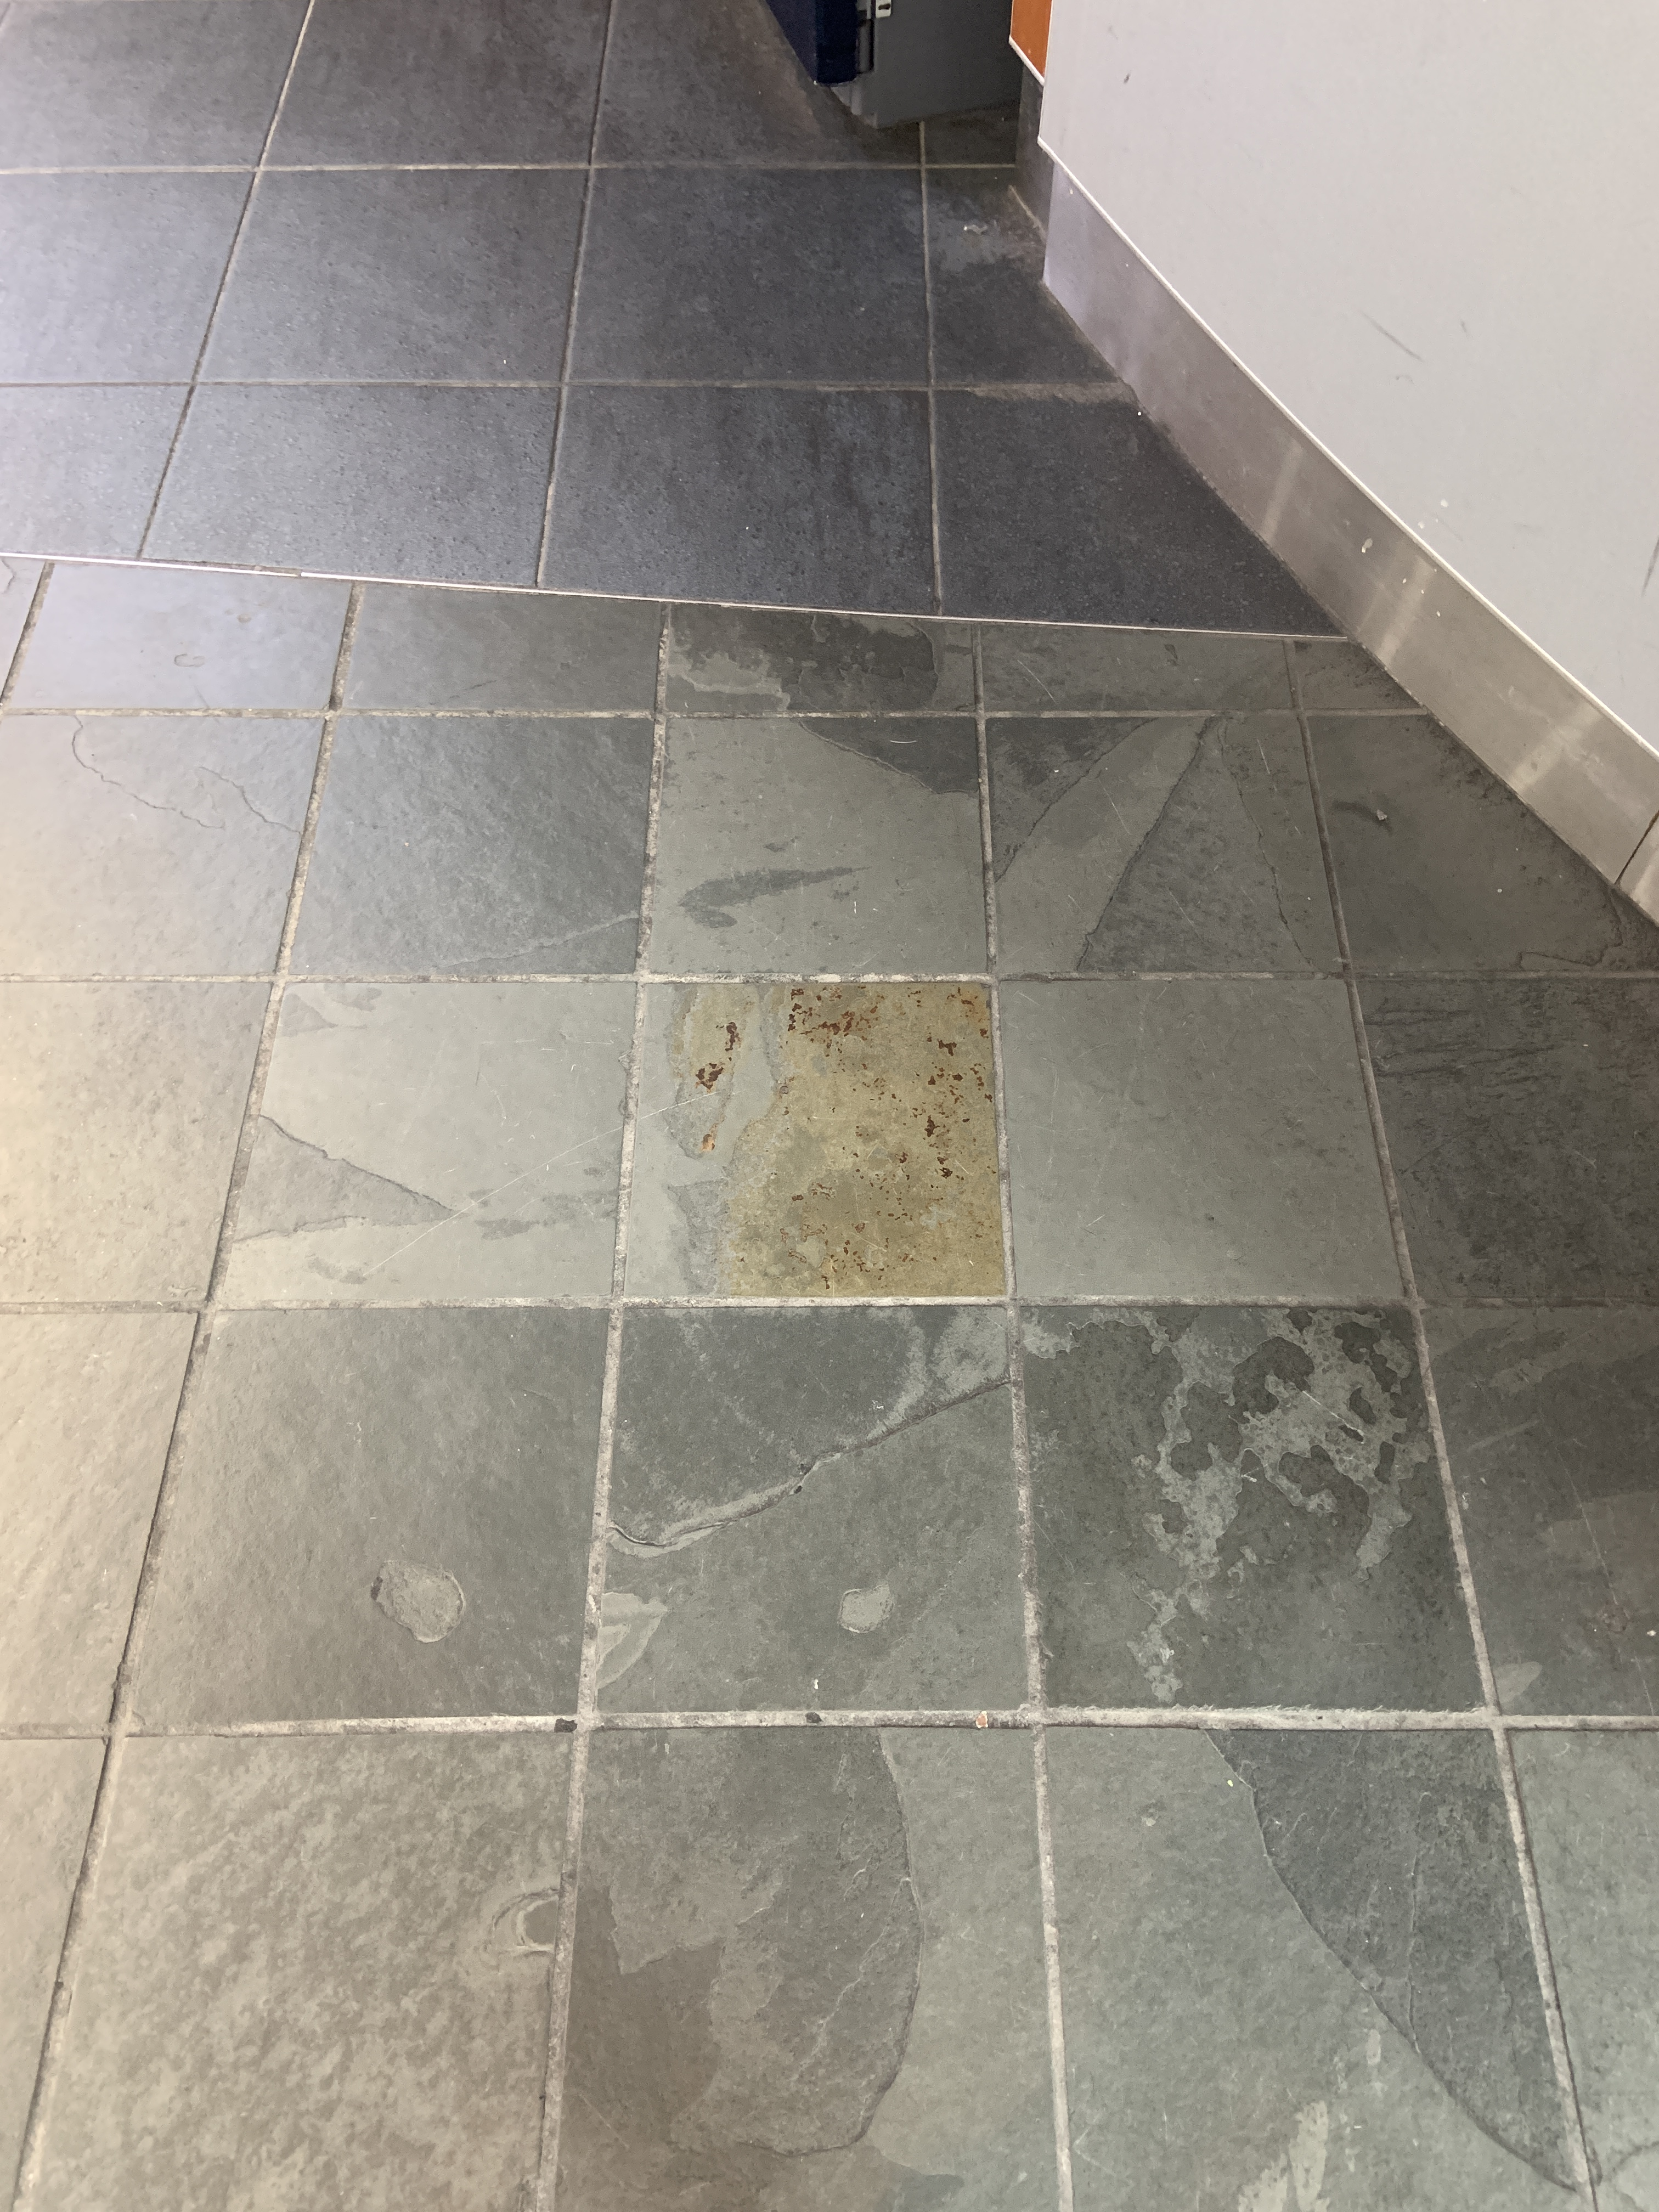Defect: (685, 977, 1040, 1324), (359, 1526, 483, 1665)
